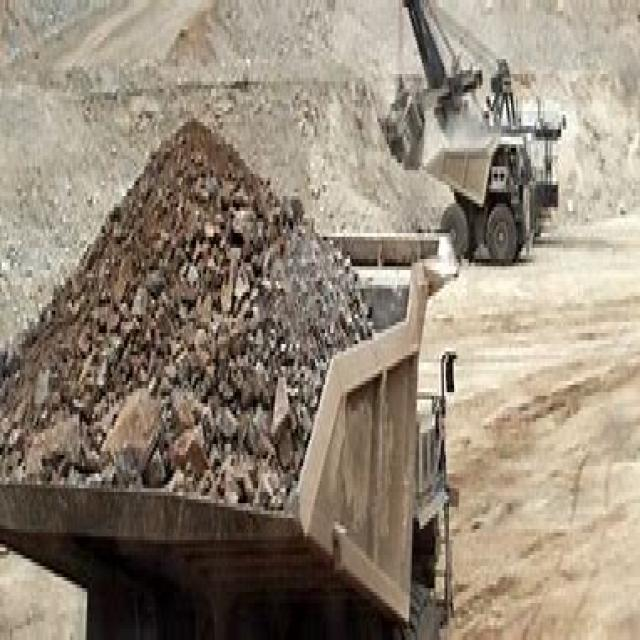dump_truck: (12, 74, 464, 621), (422, 92, 546, 292)
